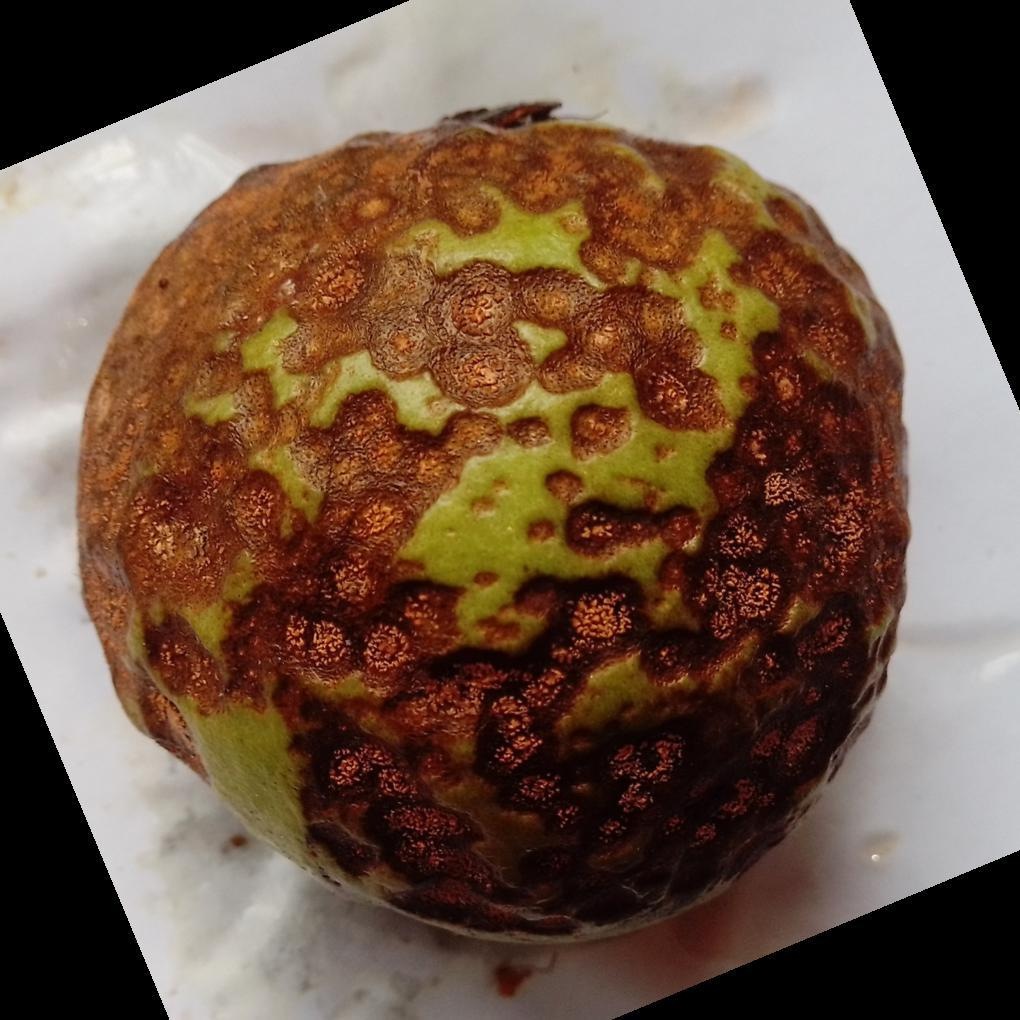FreshOrange: (74, 106, 913, 950)
